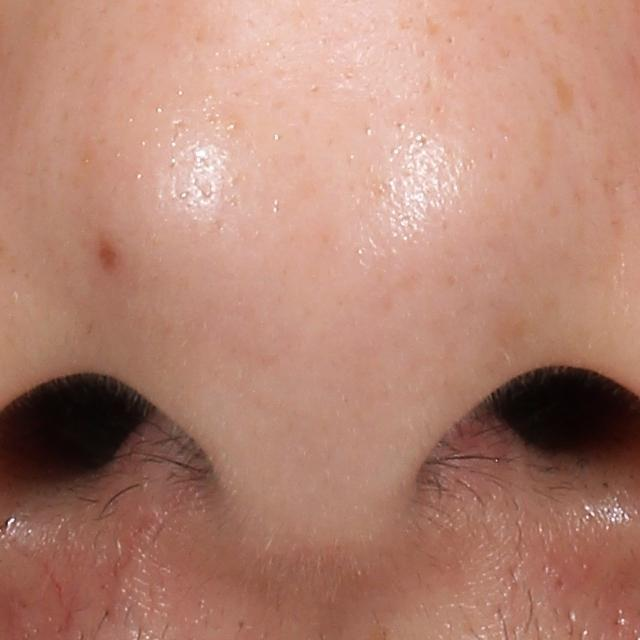melasma: (553, 73, 582, 118)
